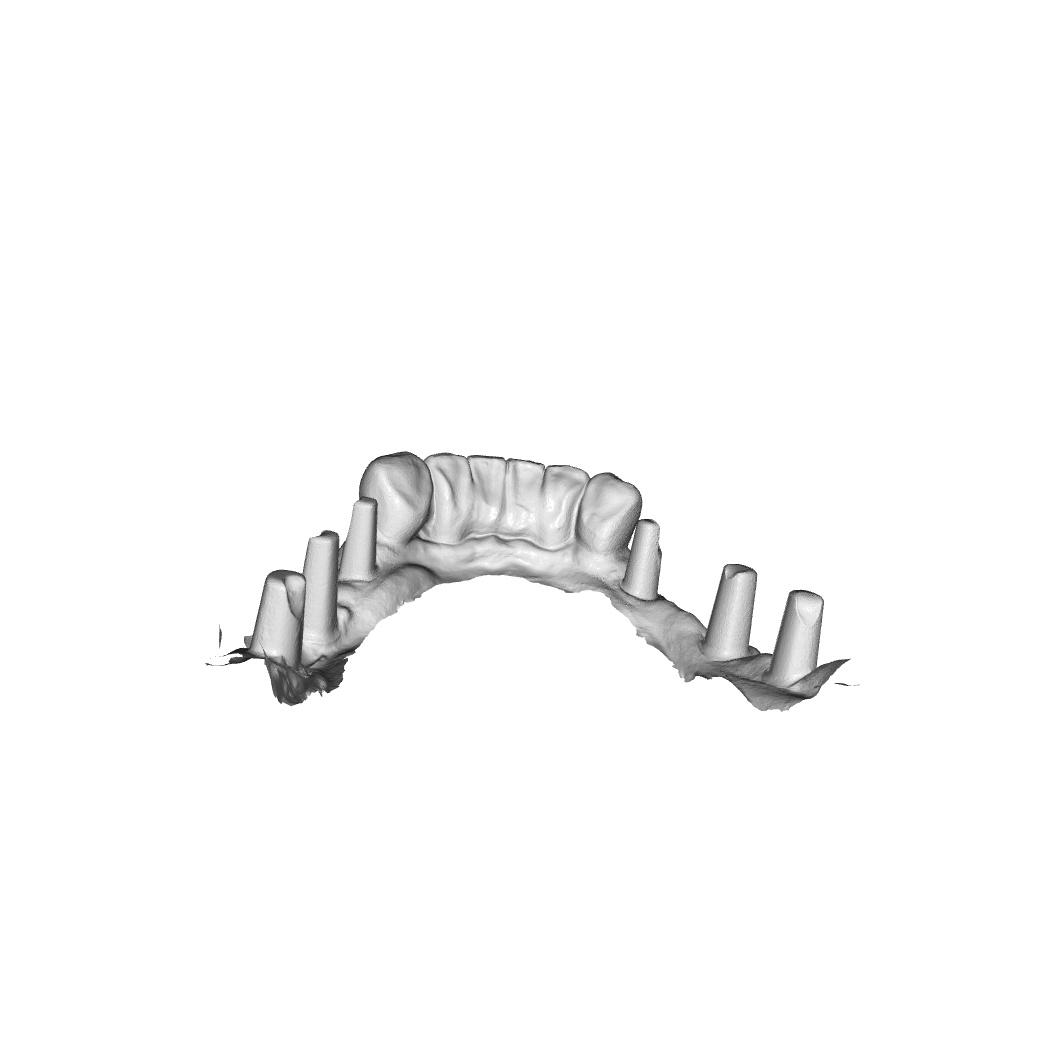abutment: (771, 588, 830, 707), (701, 554, 759, 673), (253, 566, 311, 675), (297, 525, 344, 648), (332, 497, 393, 580), (617, 515, 668, 611)
canine: (575, 462, 644, 567), (360, 449, 433, 541)
incisor: (467, 446, 518, 517), (546, 456, 586, 544), (425, 445, 465, 527), (508, 451, 546, 522)
